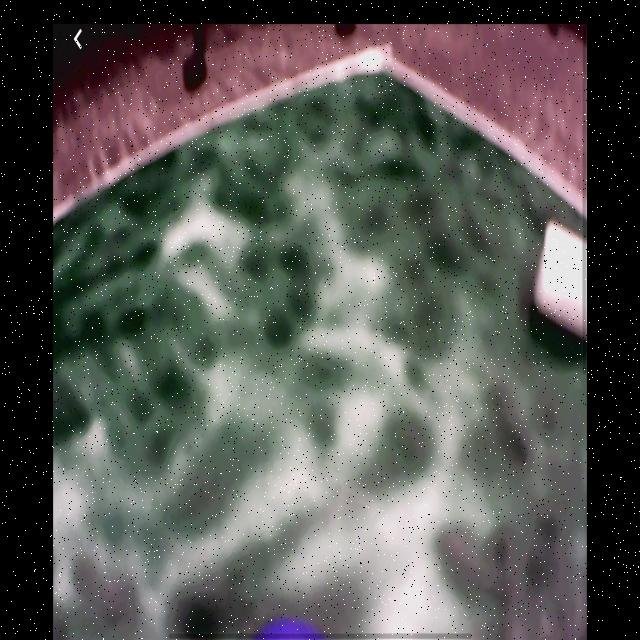ball: (250, 616, 328, 640)
